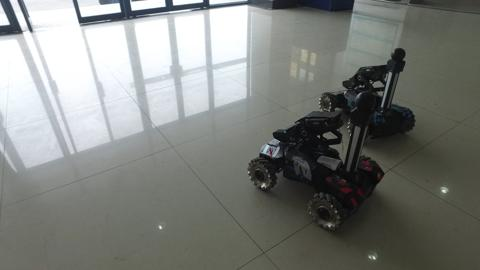chariot: (243, 90, 386, 233), (315, 43, 418, 146)
